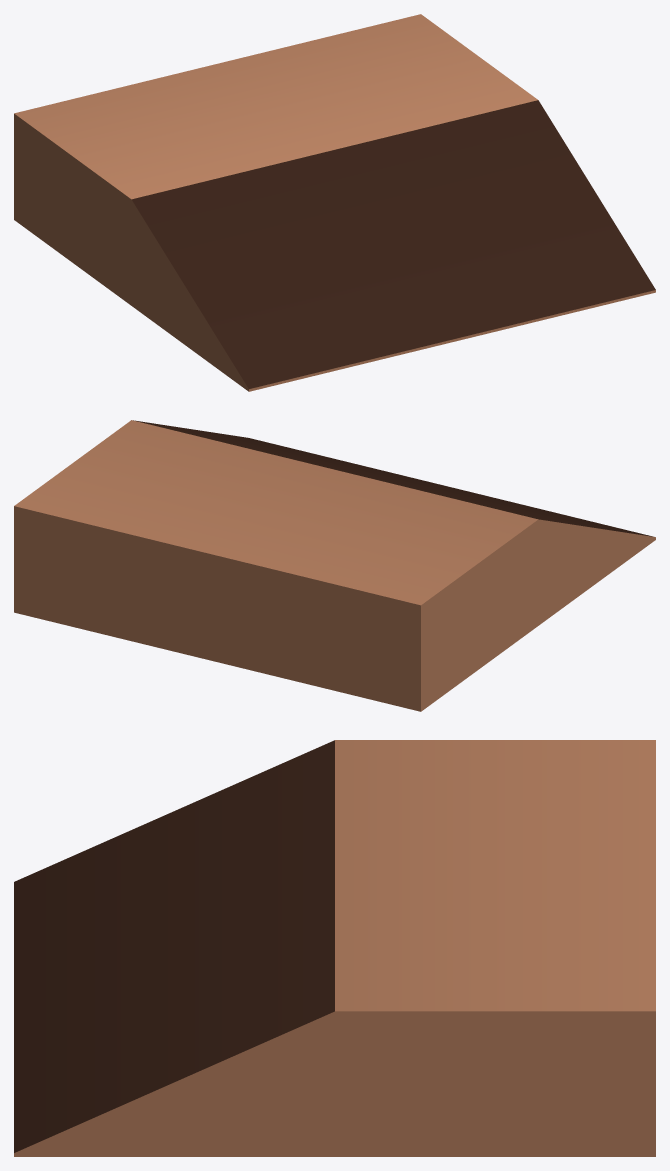
Rendered from uniformedTile-22_col.fbx.
The picture shows the model from 3 angles, top to bottom: view 1: azimuth 30°, elevation 25°; view 2: azimuth 150°, elevation 25°; view 3: azimuth 270°, elevation 25°; orthographic projection. The views are drawn at different scales.
Parts seen in each view (by area): view 1: uniformedTile-22.col; view 2: uniformedTile-22.col; view 3: uniformedTile-22.col.
Boxes of the visible parts, x1,y1,x2,y2 form: uniformedTile-22.col: (14,14,655,391); uniformedTile-22.col: (14,420,655,711); uniformedTile-22.col: (14,740,655,1156).
Bounding box in the file's own units: 2 × 0.5 × 2.
1 material, 1 textured.
